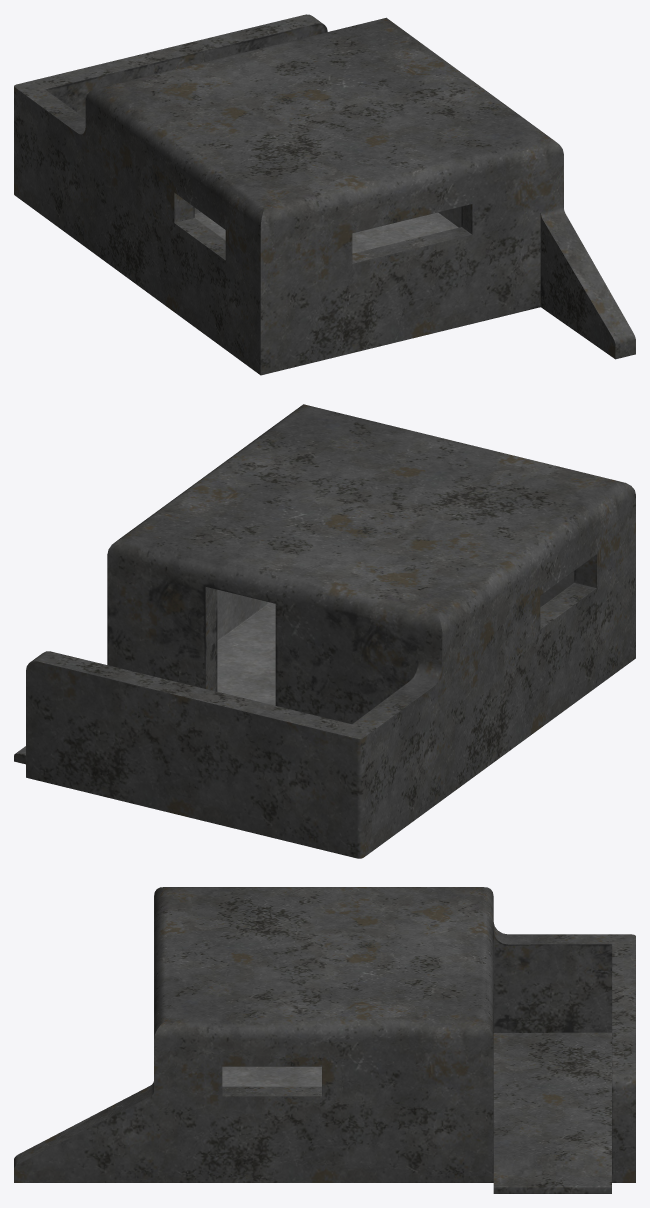
The model's file is ww2_bunker.glb.
3 renders of one model, top to bottom at view 1: azimuth 30°, elevation 25°; view 2: azimuth 150°, elevation 25°; view 3: azimuth 270°, elevation 25°, orthographic. The views are drawn at different scales.
Parts seen in each view (by area): view 1: Cube; view 2: Cube; view 3: Cube.
Part boxes in pixels (x1,y1,x2,y2): Cube: [14, 14, 635, 375]; Cube: [14, 404, 635, 858]; Cube: [14, 887, 635, 1193].
Size of the model in its own units: 6.35 by 3.02 by 10.81.
2 materials, 2 textured.
